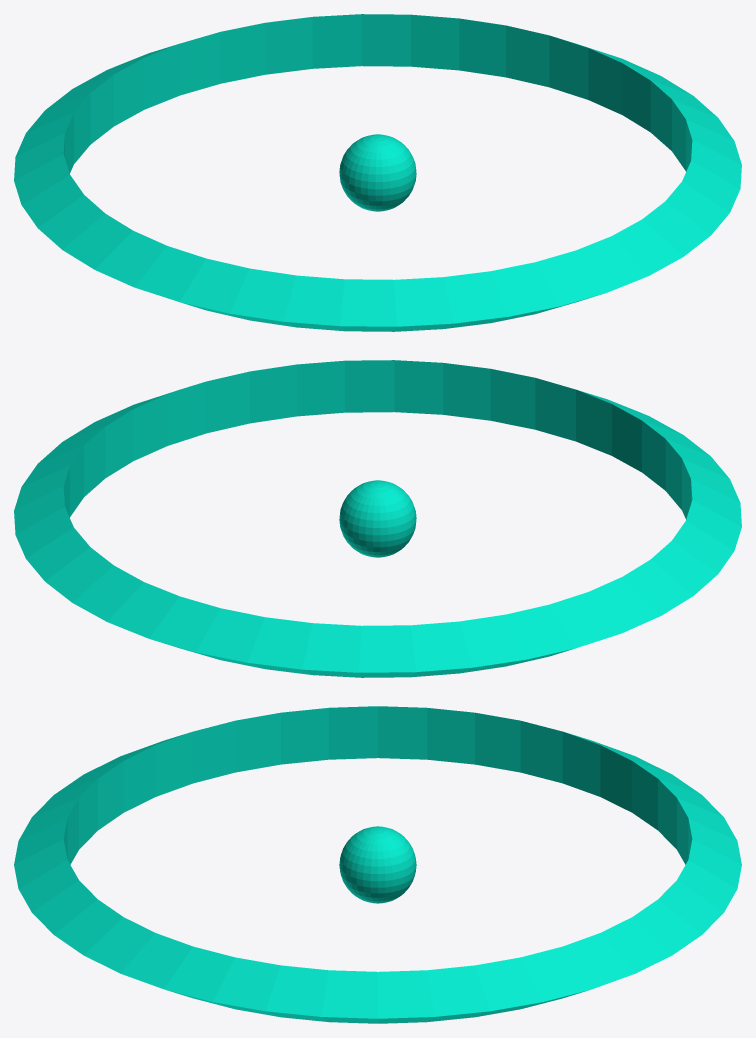
File: ExportedBlenderFBXFile.fbx
The picture shows the model from 3 angles, top to bottom: view 1: azimuth 30°, elevation 25°; view 2: azimuth 150°, elevation 25°; view 3: azimuth 270°, elevation 25°; orthographic projection.
Visible parts, largest first — view 1: Torus.002, Sphere; view 2: Torus.002, Sphere; view 3: Torus.002, Sphere.
Boxes of the visible parts, x1,y1,x2,y2 form: Torus.002: (14,14,741,331); Sphere: (339,134,416,211); Torus.002: (14,360,741,677); Sphere: (339,480,416,557); Torus.002: (14,706,741,1023); Sphere: (339,826,416,903).
Size of the model in its own units: 1.32 by 0.14 by 1.32.
